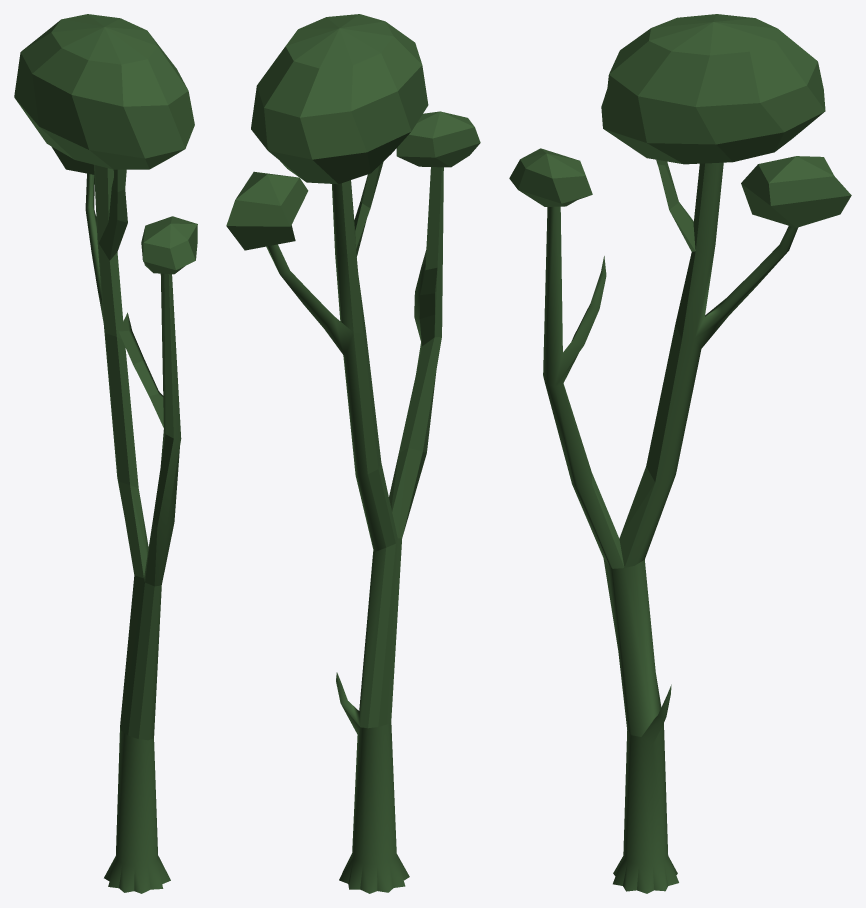
The model's file is birchtree2.fbx.
3 views of the same model, side by side, from view 1: azimuth 30°, elevation 25°; view 2: azimuth 150°, elevation 25°; view 3: azimuth 270°, elevation 25° (orthographic). The views are drawn at different scales.
Parts seen in each view (by area): view 1: pCylinder3.002; view 2: pCylinder3.002; view 3: pCylinder3.002.
Boxes of the visible parts, x1,y1,x2,y2 form: pCylinder3.002: [14, 14, 197, 893]; pCylinder3.002: [226, 14, 480, 893]; pCylinder3.002: [509, 14, 851, 893].
Size of the model in its own units: 161 by 955 by 346.
